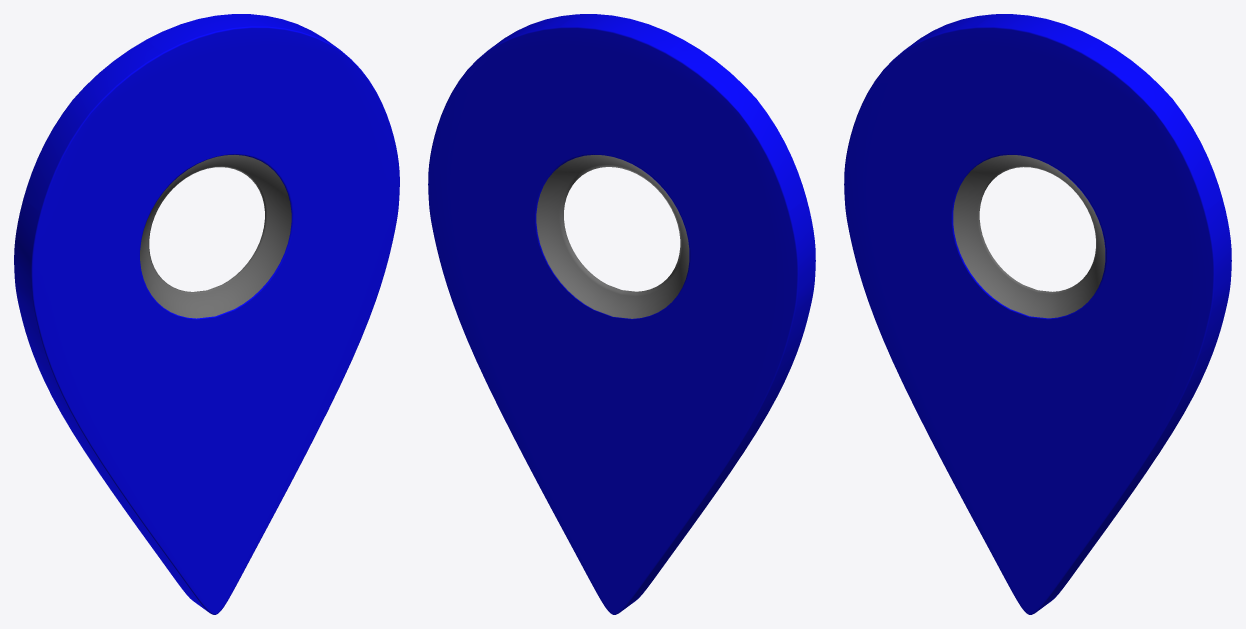
The model's file is blue_marker.glb.
The picture shows the model from 3 angles, left to right: view 1: azimuth 30°, elevation 25°; view 2: azimuth 150°, elevation 25°; view 3: azimuth 330°, elevation 25°; orthographic projection.
Parts seen in each view (by area): view 1: Plane; view 2: Plane; view 3: Plane.
Boxes of the visible parts, left/top/right/bottom form: Plane: left=14, top=14, right=399, bottom=614; Plane: left=428, top=14, right=815, bottom=614; Plane: left=844, top=14, right=1231, bottom=614.
Bounding box in the file's own units: 2.66 × 4.02 × 0.2401.
